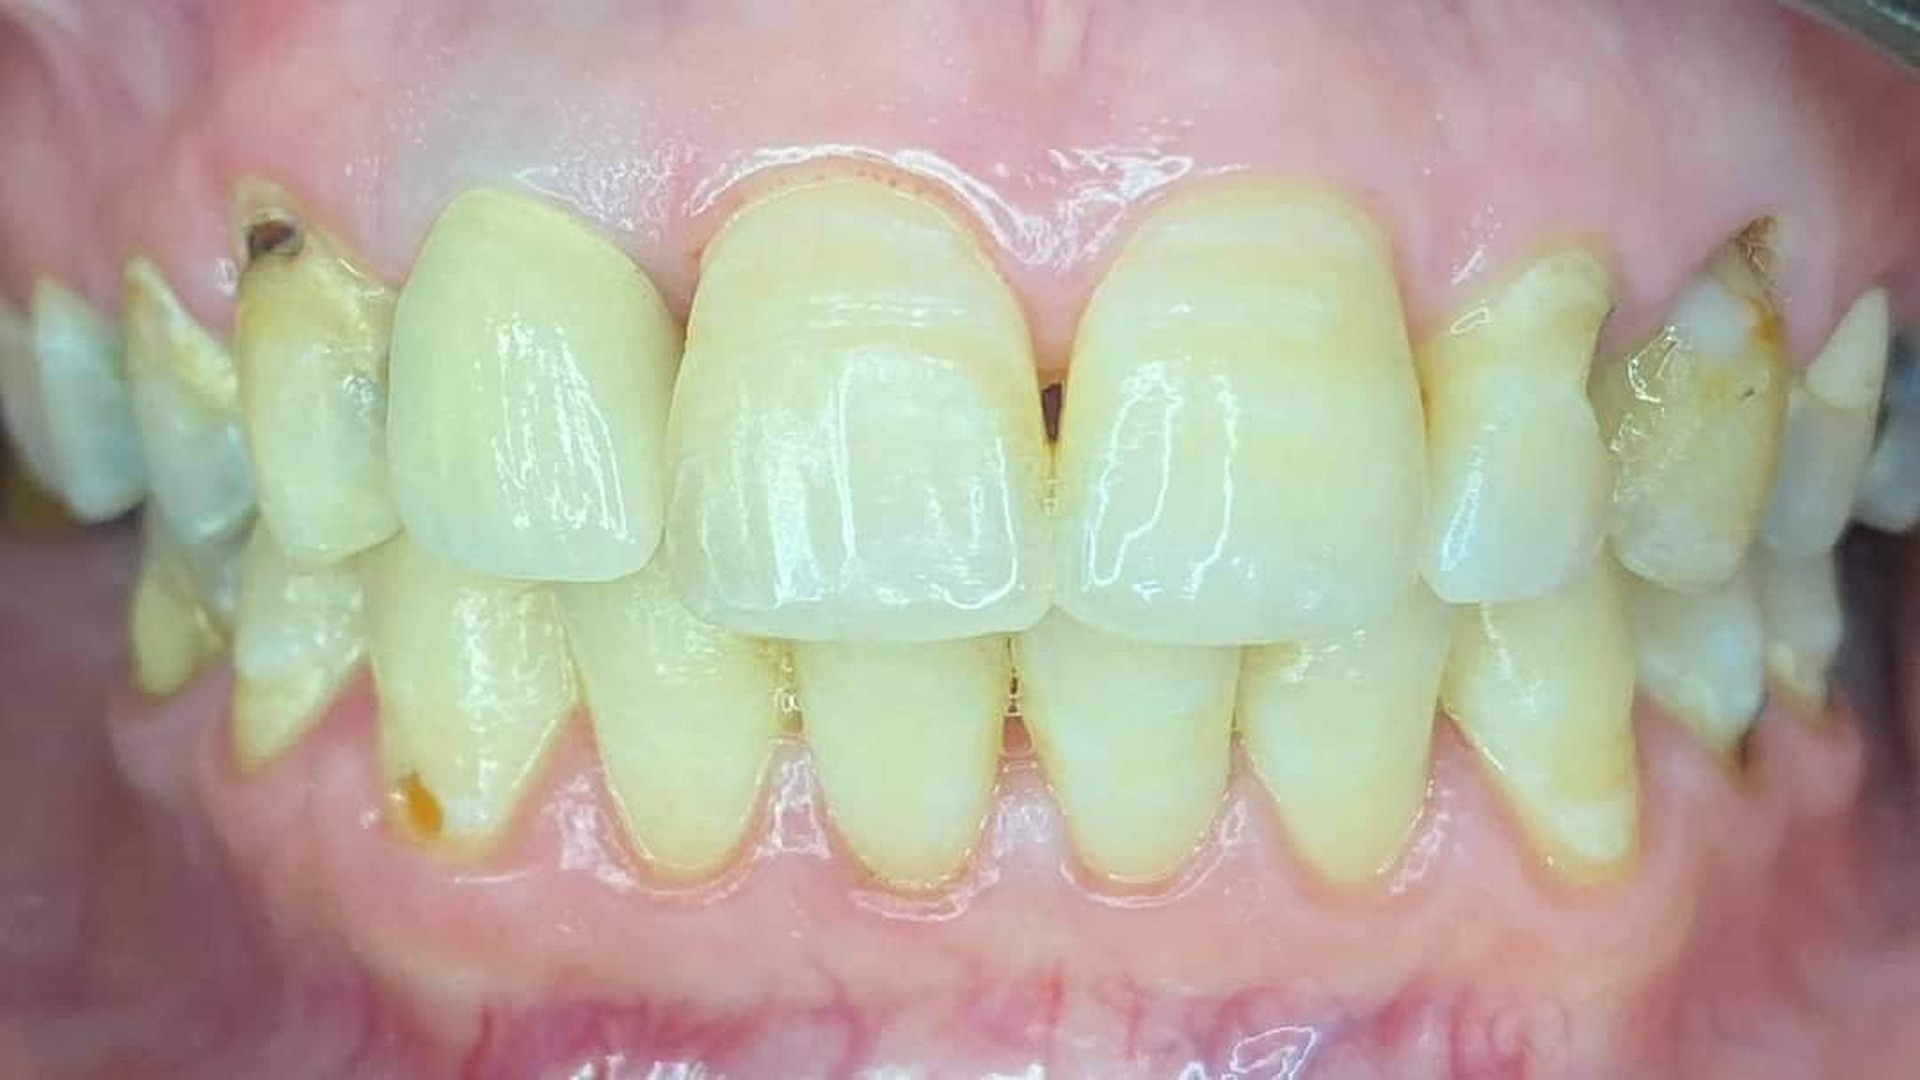tooth: (665, 175, 1058, 644), (1052, 171, 1428, 645), (386, 186, 682, 582), (553, 559, 798, 880), (355, 533, 582, 858), (1607, 215, 1793, 593), (1437, 541, 1640, 884), (1418, 249, 1613, 603), (1234, 583, 1451, 885), (1017, 607, 1242, 880), (232, 231, 401, 572), (795, 634, 1015, 891), (123, 255, 258, 547), (229, 514, 368, 773)
